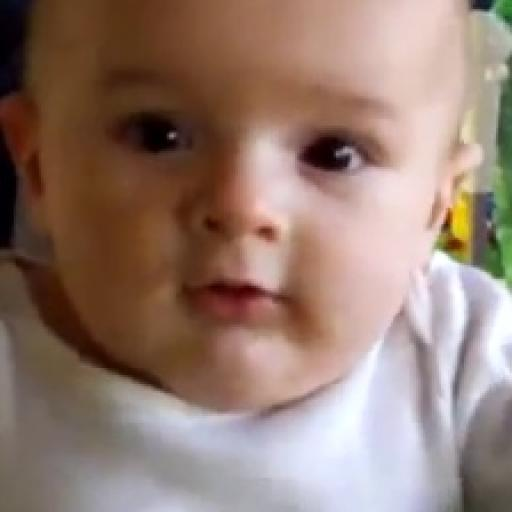Autism: (61, 4, 435, 453)
